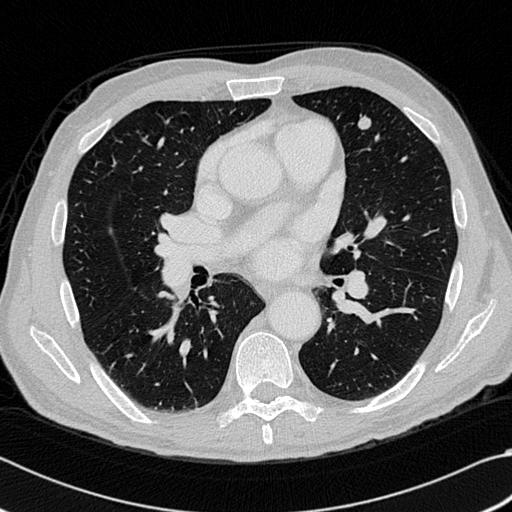nodule: (355, 114, 374, 133)
